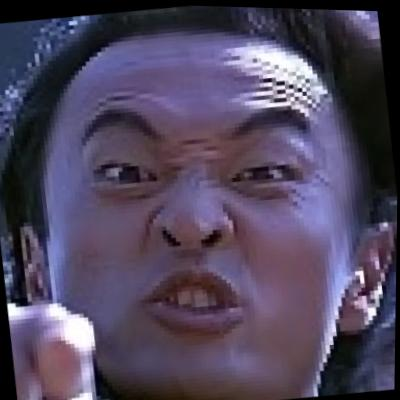angry: (33, 11, 370, 400)
